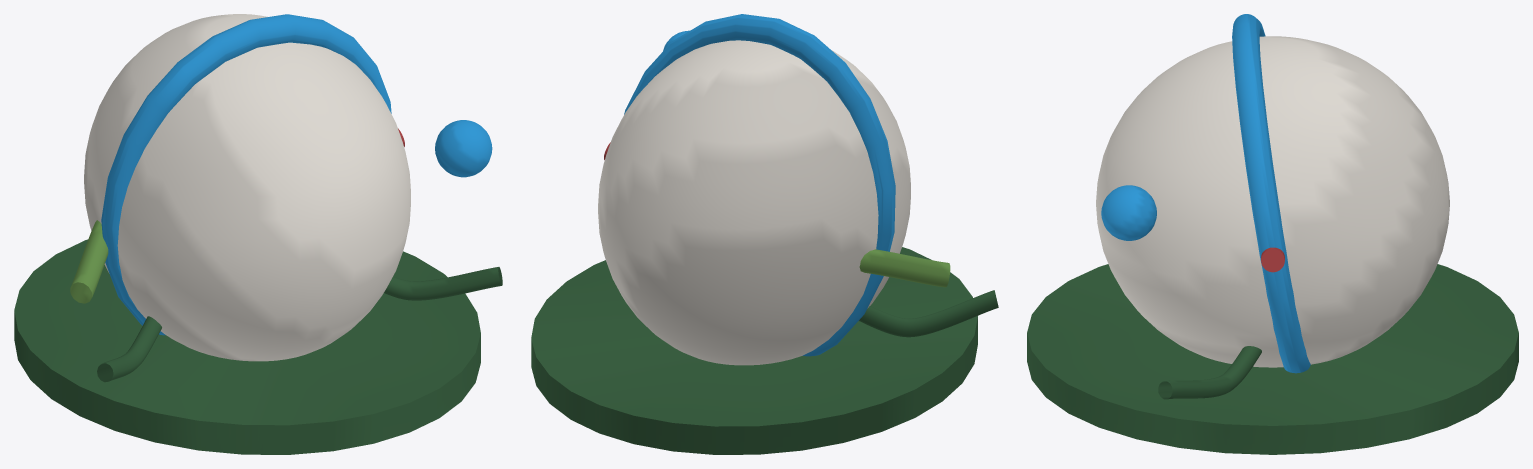
File: 1207_细胞图鉴_外膜.glb
3 views of the same model, side by side, from view 1: azimuth 30°, elevation 25°; view 2: azimuth 150°, elevation 25°; view 3: azimuth 270°, elevation 25° (orthographic). The views are drawn at different scales.
Parts seen in each view (by area): view 1: card_1207; view 2: card_1207; view 3: card_1207.
Part boxes in pixels (bbox=[...]): card_1207: bbox=[14, 14, 502, 454]; card_1207: bbox=[531, 14, 998, 454]; card_1207: bbox=[1027, 14, 1518, 454].
Bounding box in the file's own units: 1.22 × 1 × 1.32.
